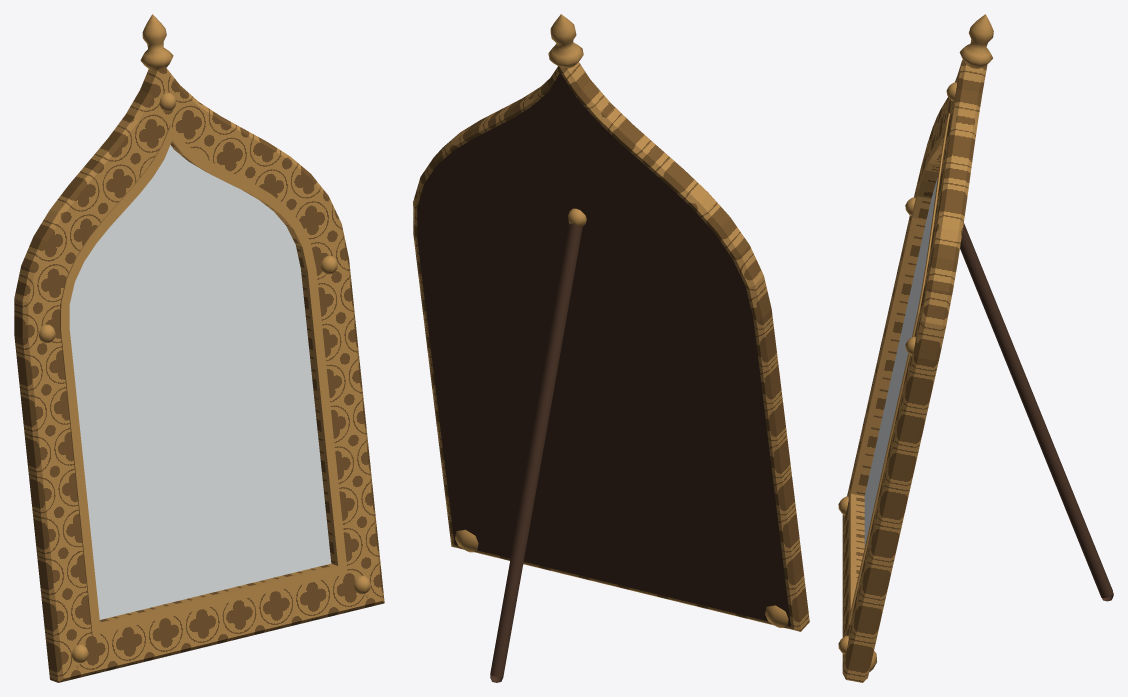
The model's file is prop-mirror.glb.
3 views of the same model, side by side, from view 1: azimuth 30°, elevation 25°; view 2: azimuth 150°, elevation 25°; view 3: azimuth 270°, elevation 25° (orthographic). The views are drawn at different scales.
Parts seen in each view (by area): view 1: piece_Mirror, piece_EngravedBrass, piece_Brass; view 2: piece_WoodDark, piece_EngravedBrass, piece_Brass; view 3: piece_EngravedBrass, piece_Brass, piece_WoodDark, piece_Mirror.
Part boxes in pixels (bbox=[...]): piece_Mirror: bbox=[69, 145, 331, 619]; piece_EngravedBrass: bbox=[14, 67, 384, 682]; piece_Brass: bbox=[39, 14, 370, 668]; piece_WoodDark: bbox=[417, 73, 790, 682]; piece_EngravedBrass: bbox=[413, 62, 809, 631]; piece_Brass: bbox=[455, 14, 788, 627]; piece_EngravedBrass: bbox=[842, 59, 987, 682]; piece_Brass: bbox=[838, 14, 993, 672]; piece_WoodDark: bbox=[960, 223, 1113, 601]; piece_Mirror: bbox=[864, 178, 937, 547].
Size of the model in its own units: 0.266 by 0.4532 by 0.1919.
4 materials, 1 textured.
